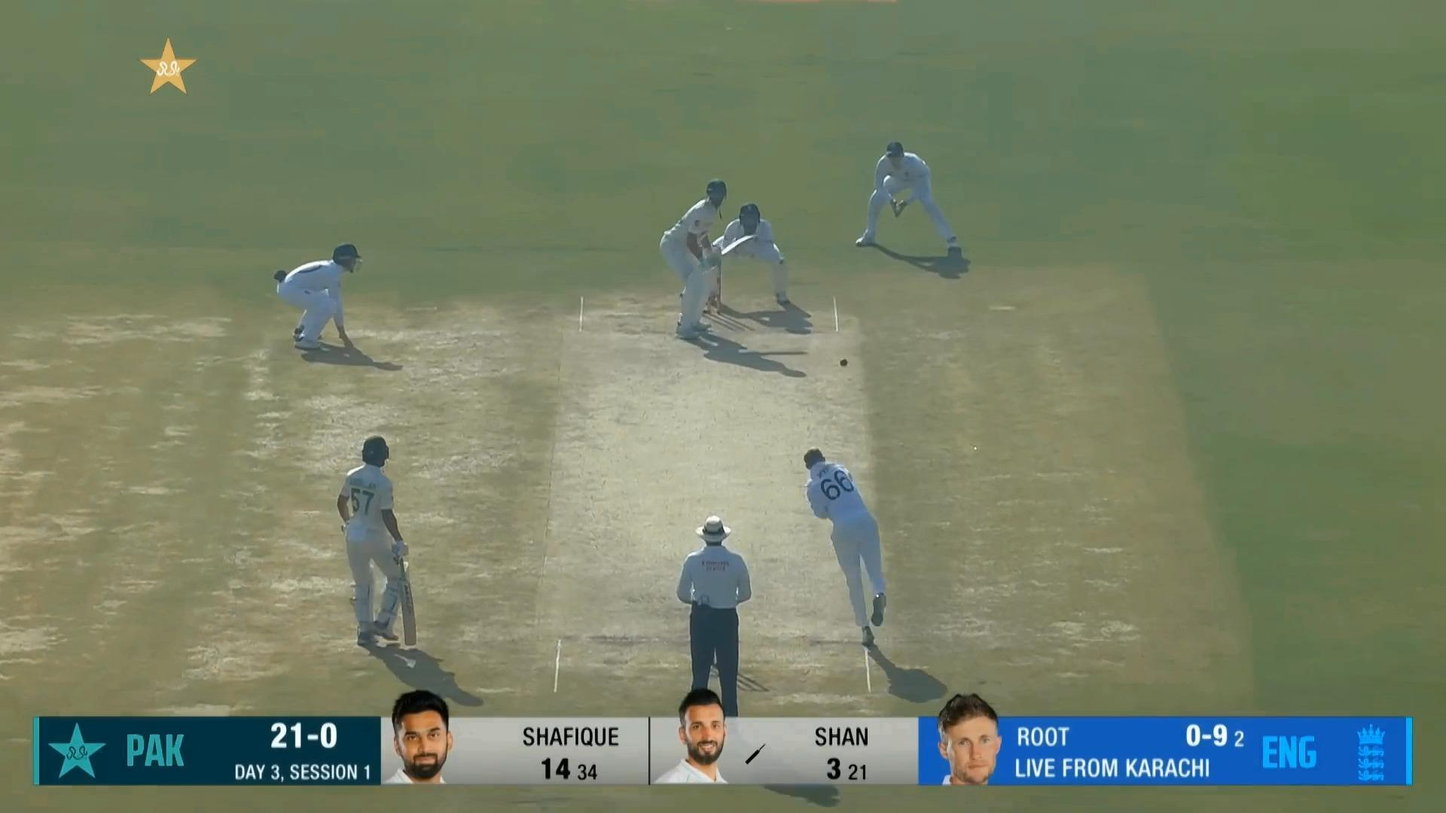BM 1: (658, 178, 760, 340)
BO: (802, 447, 887, 646)
